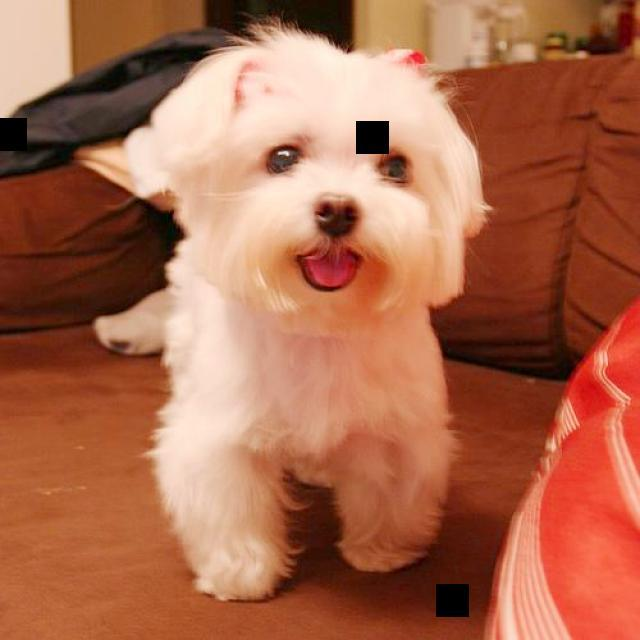adult_dog: (95, 28, 489, 603)
